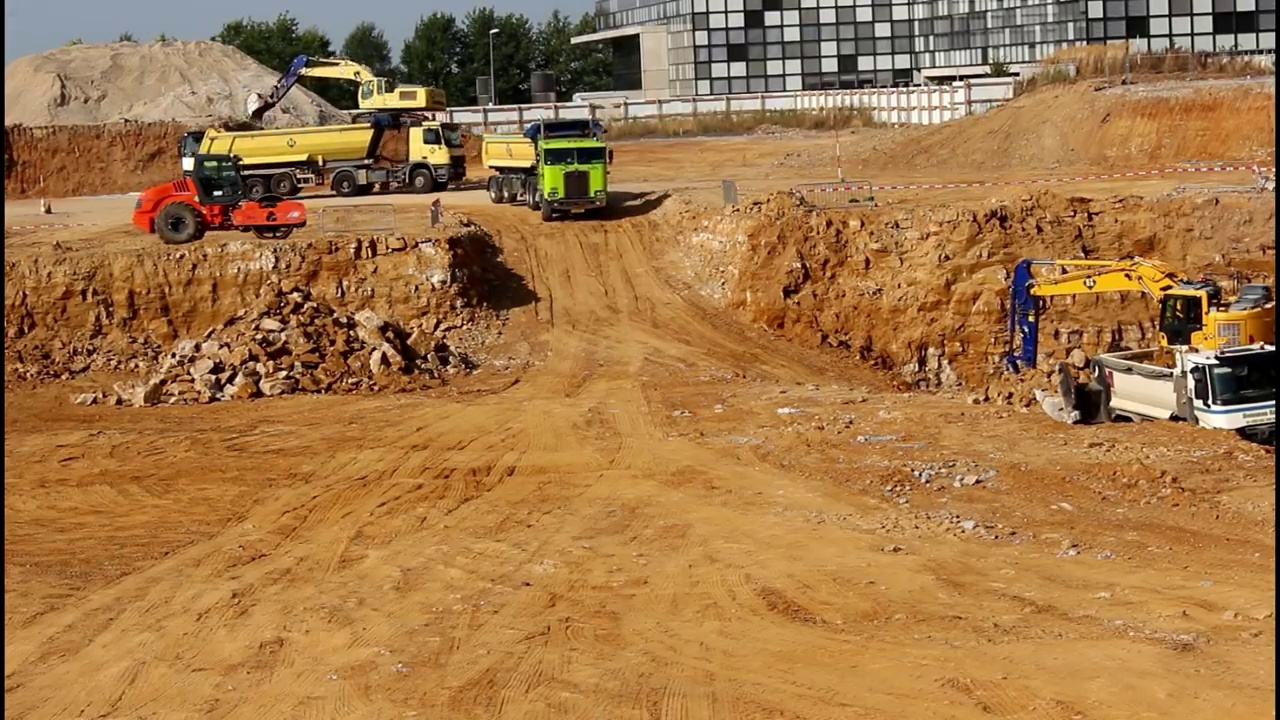compactor: (130, 151, 310, 243)
excavator: (982, 255, 1280, 406), (240, 47, 451, 131)
truck: (1084, 338, 1280, 465), (193, 119, 469, 199), (482, 114, 619, 224)
